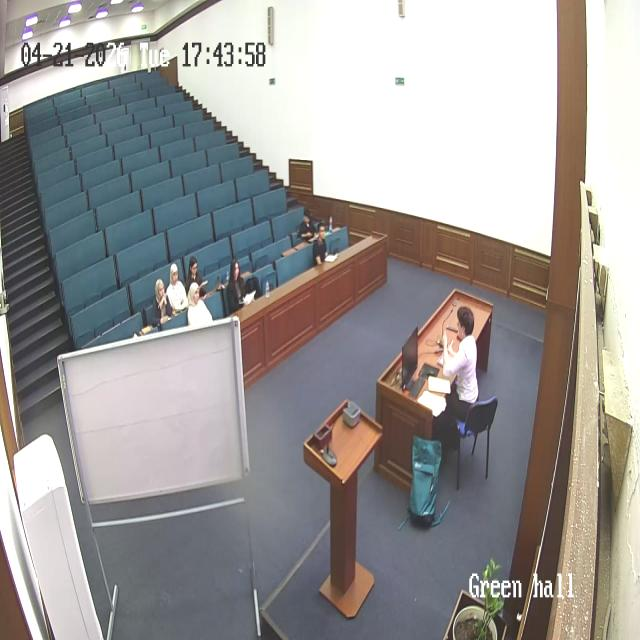person: (436, 305, 480, 440), (224, 258, 252, 314), (186, 280, 213, 328), (166, 262, 189, 314), (152, 277, 174, 330), (185, 255, 208, 299), (311, 221, 329, 266), (298, 208, 318, 242)
